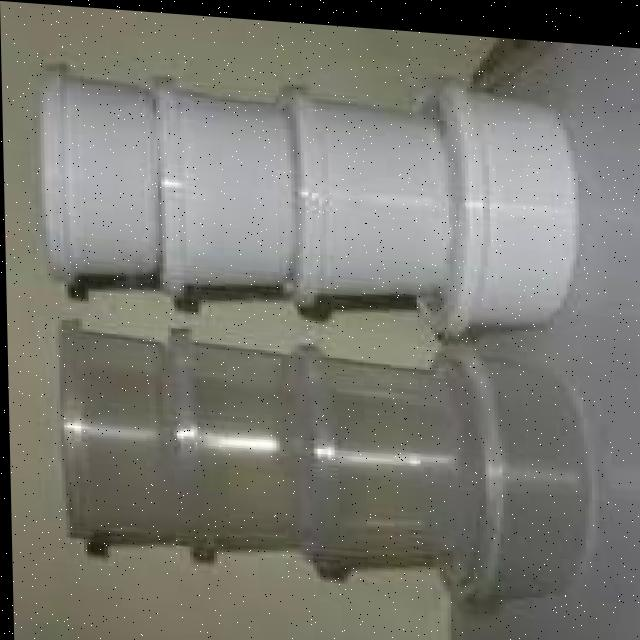disposable: (389, 44, 590, 341), (279, 328, 472, 587), (262, 75, 456, 314), (156, 317, 316, 563), (145, 73, 309, 312), (35, 315, 180, 561), (25, 57, 171, 286)
